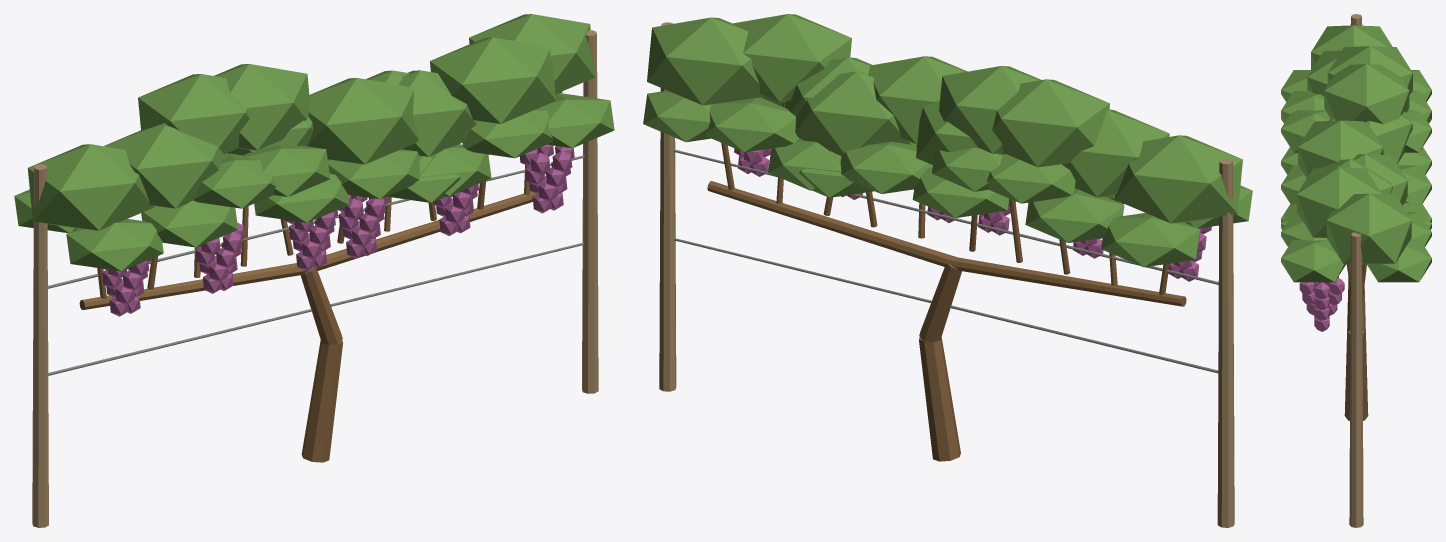
The model's file is grape-2.glb.
The picture shows the model from 3 angles, left to right: view 1: azimuth 30°, elevation 25°; view 2: azimuth 150°, elevation 25°; view 3: azimuth 270°, elevation 25°; orthographic projection. The views are drawn at different scales.
Visible parts, largest first — view 1: grape-2; view 2: grape-2; view 3: grape-2.
Boxes of the visible parts, box(x1,y1,x2,y2) form: grape-2: box(14, 14, 614, 527); grape-2: box(643, 14, 1252, 527); grape-2: box(1281, 14, 1431, 527).
Bounding box in the file's own units: 3.4 × 2.33 × 0.9653.
